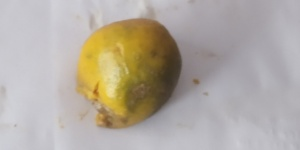BAD: (78, 15, 183, 127)
